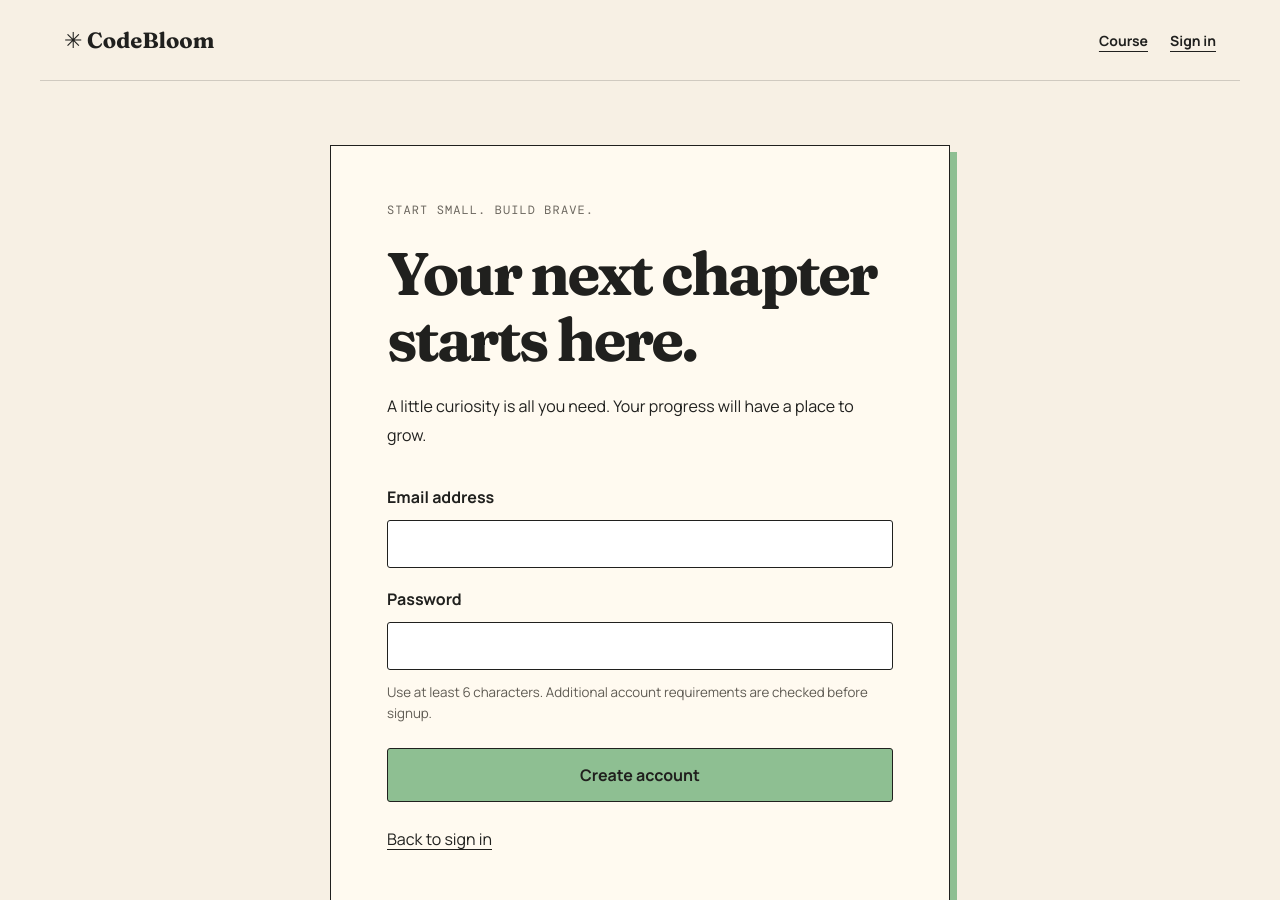
Test: account and lesson routes › validates password policy before creating an account
Type "alice@example.test" into the field labelled "Email address" at (640, 544), box x1=387 y1=520 x2=893 y2=568
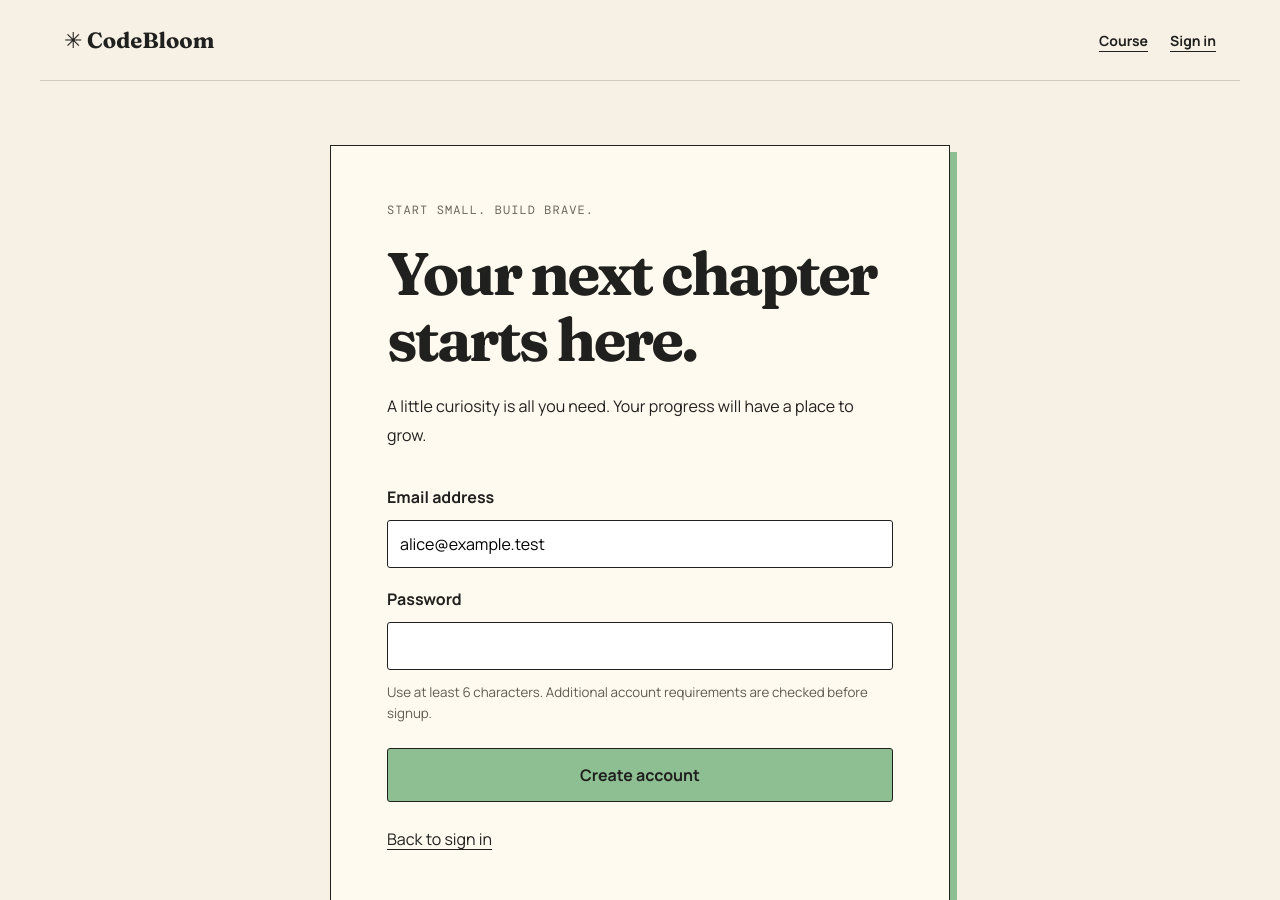
Type "weakpass" into the password field labelled "Password" at (640, 646), box x1=387 y1=622 x2=893 y2=670
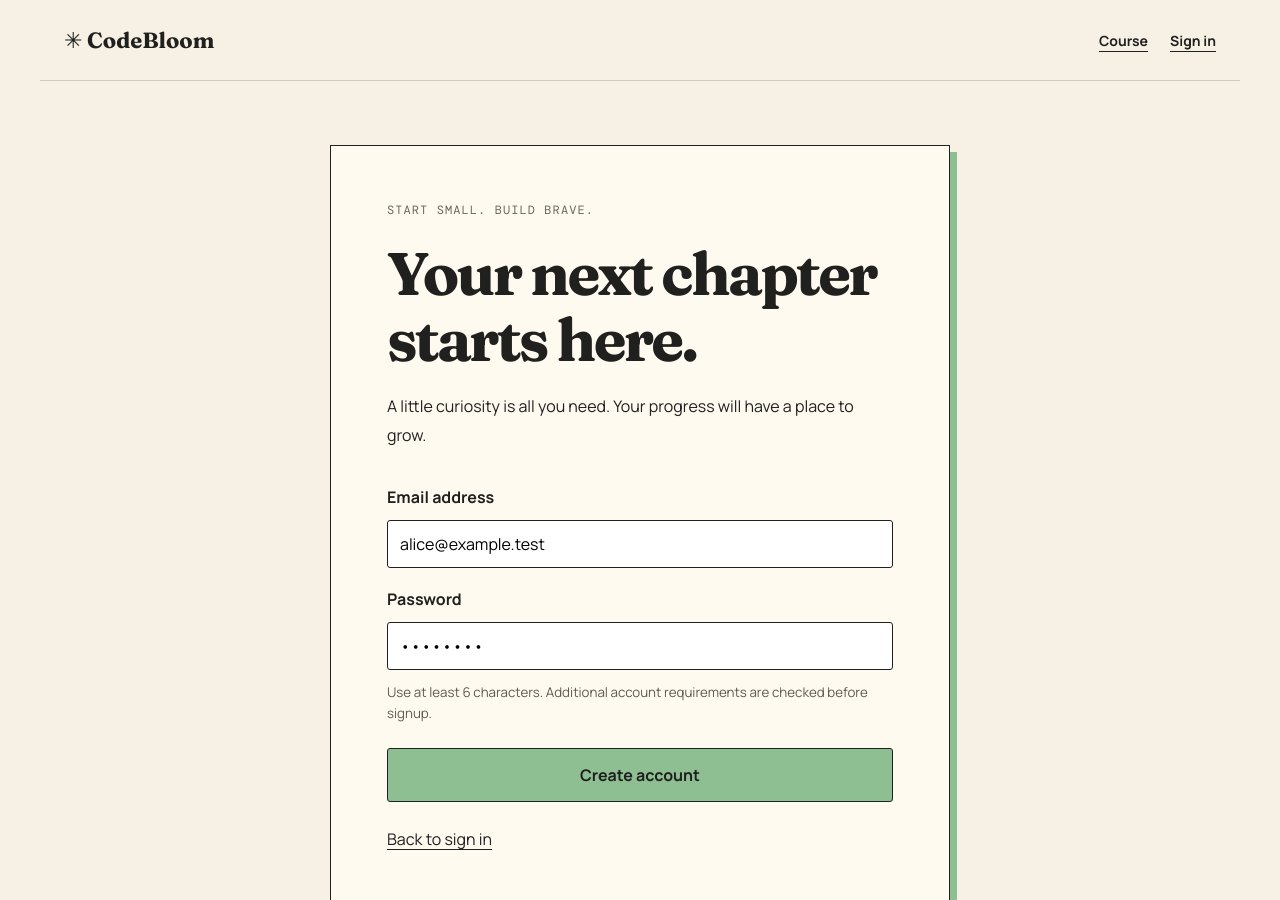
Click the button "Create account" at (640, 775), box x1=387 y1=748 x2=893 y2=802
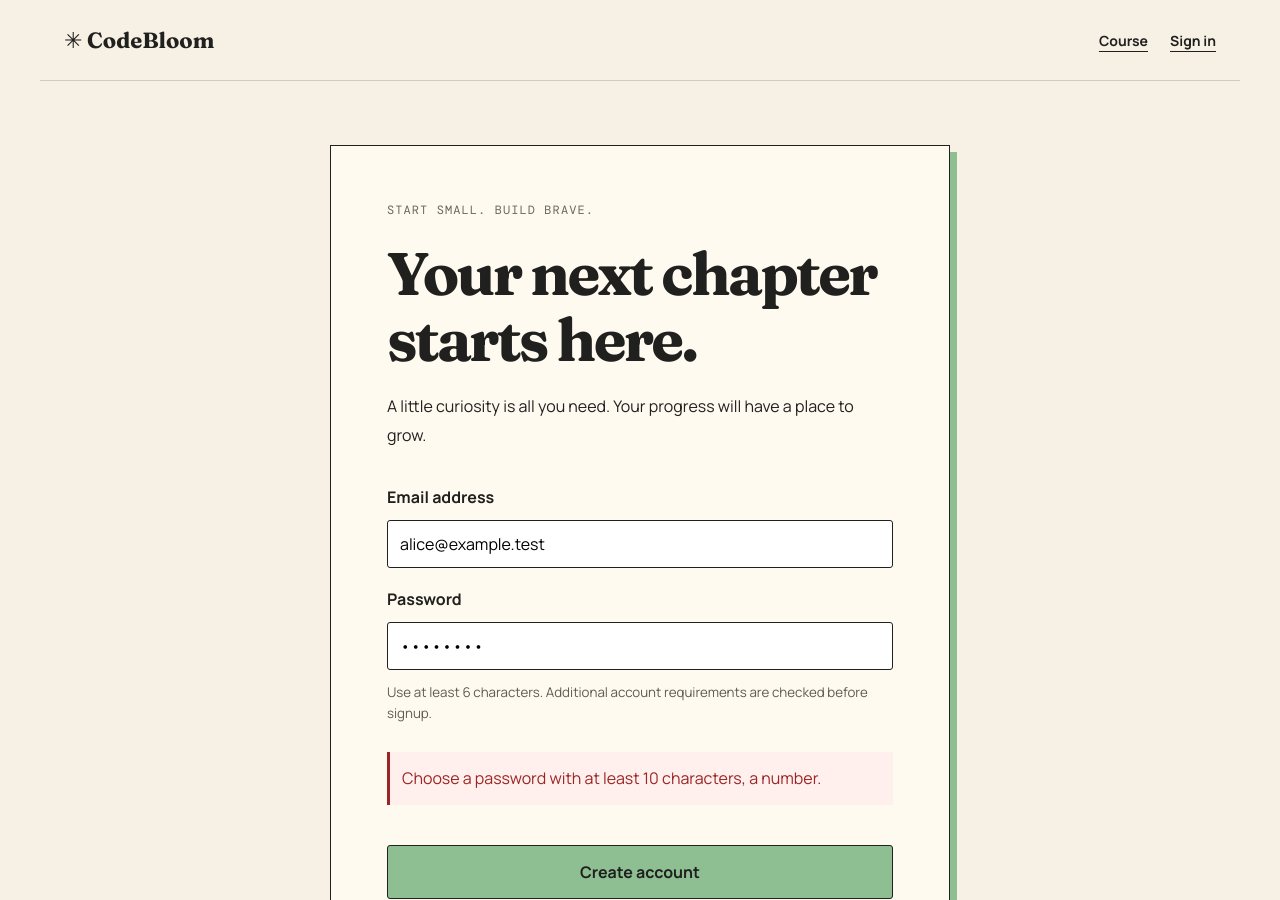
Expected: the message shows "at least 10 characters, a number", x1=402 y1=767 x2=821 y2=789
